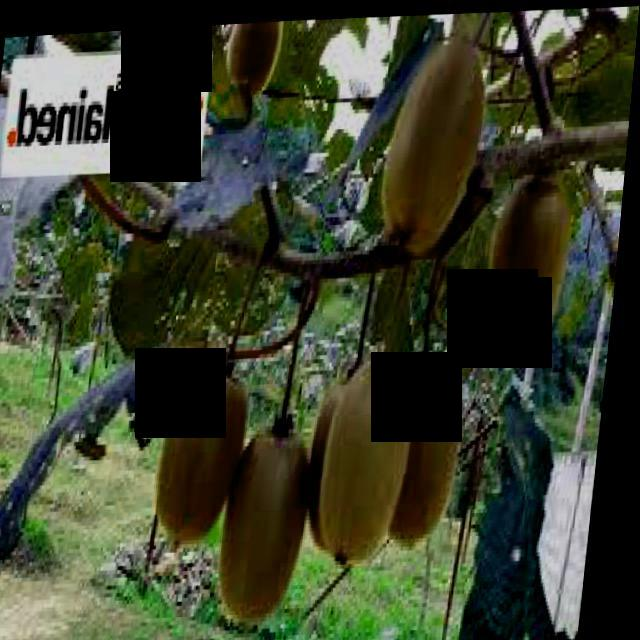kiwi: (384, 32, 496, 253), (322, 352, 432, 572), (225, 416, 329, 621), (382, 354, 480, 559), (164, 349, 265, 538), (491, 160, 584, 357)
